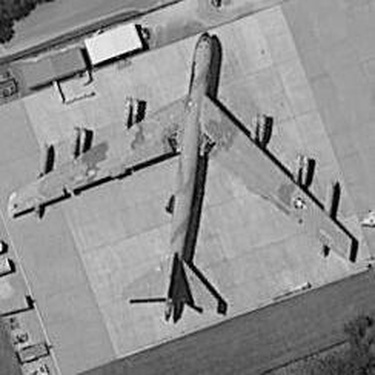airplane: (1, 20, 358, 338)
